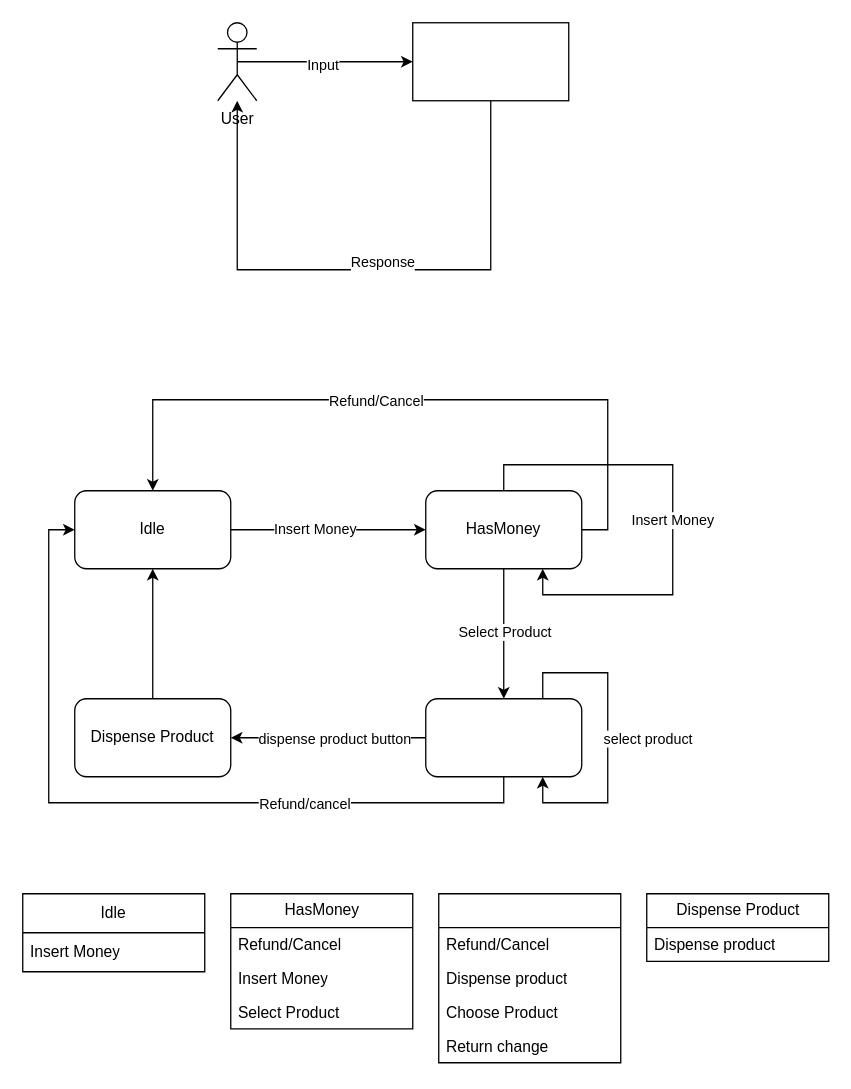
The diagram is 851 pixels wide and 1089 high, and some of its shapes have lost their labels. Each missing label, with the box of its shape:
Selection State: (424, 697, 582, 777)
SelectionState: (437, 892, 621, 1063)
VendingMachine: (411, 21, 569, 101)
